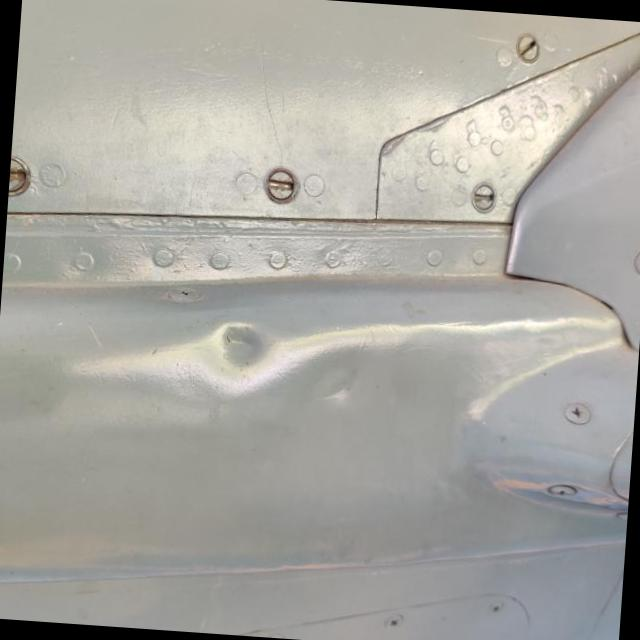Dent: (185, 318, 281, 382), (298, 362, 370, 418)
